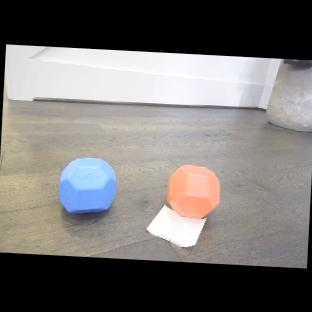V5_BLUE: (57, 156, 118, 216)
V5_RED: (166, 163, 222, 219)
